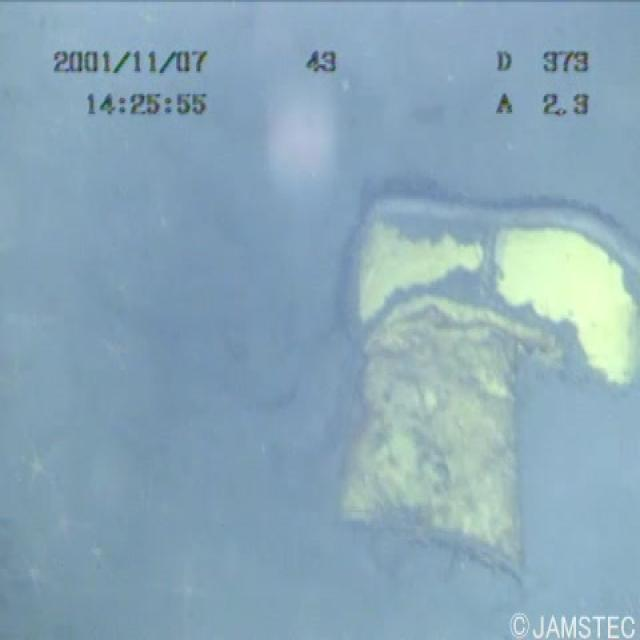plastic: (329, 151, 639, 613)
